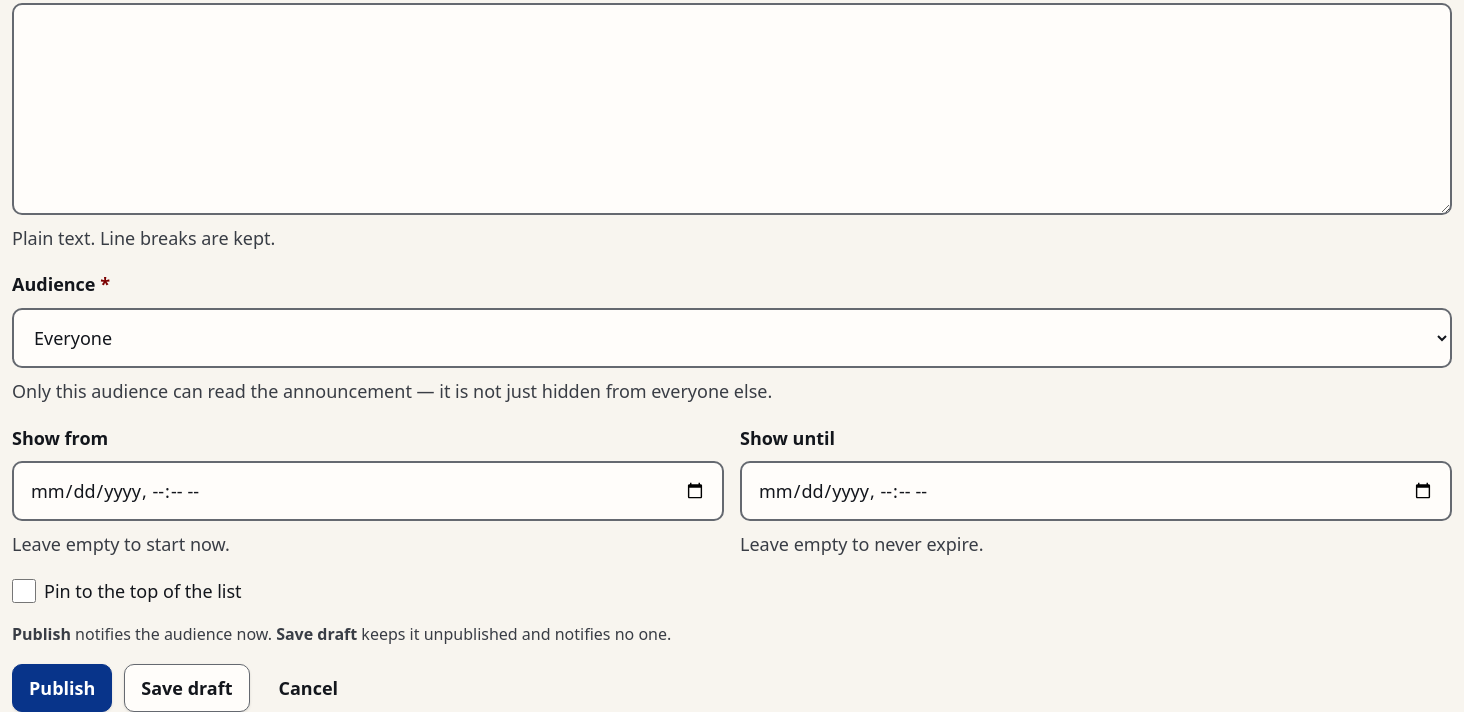
Test case: validation › refuses an empty announcement
The image size is (1464, 712).
(page scrolled)
Click the button "Save draft": {"x": 187, "y": 688} [124,664,250,711]
(page scrolled)
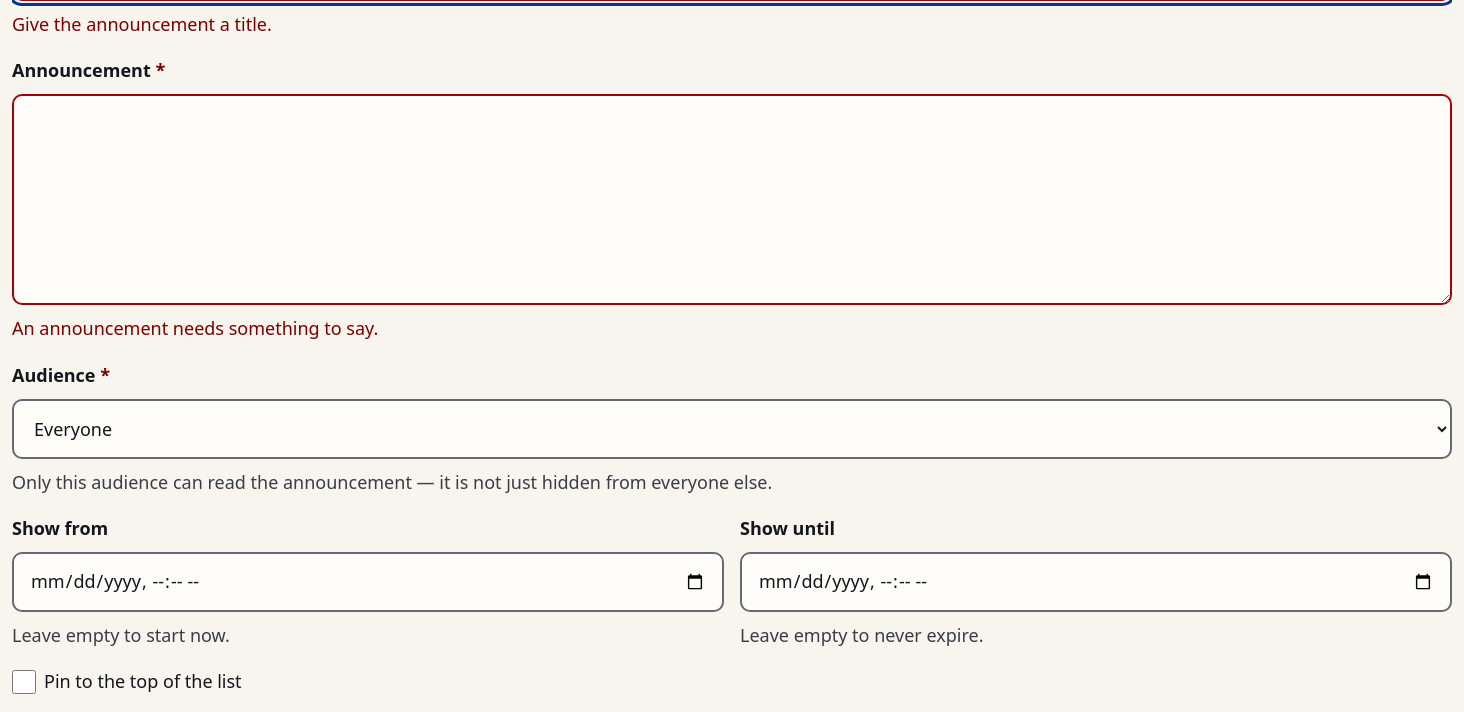
Now the text "Give the announcement a title." is shown, box [12,12,272,36]
